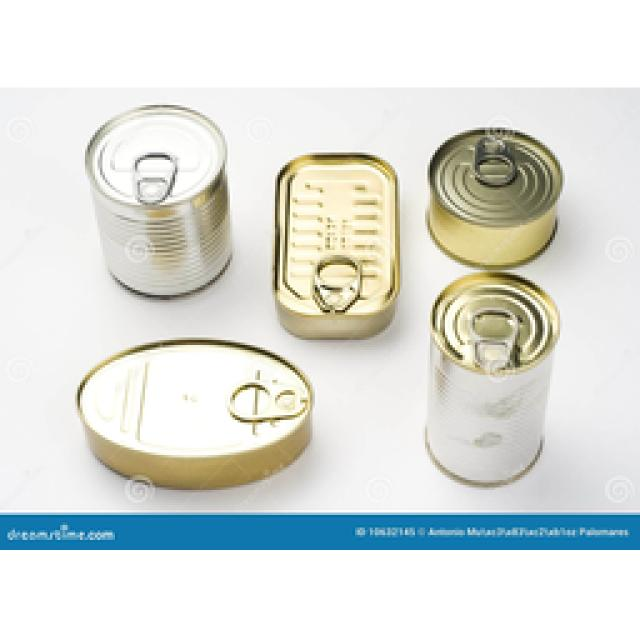alumunium: (425, 128, 560, 485), (78, 338, 310, 488), (85, 105, 230, 295), (275, 152, 398, 335)
